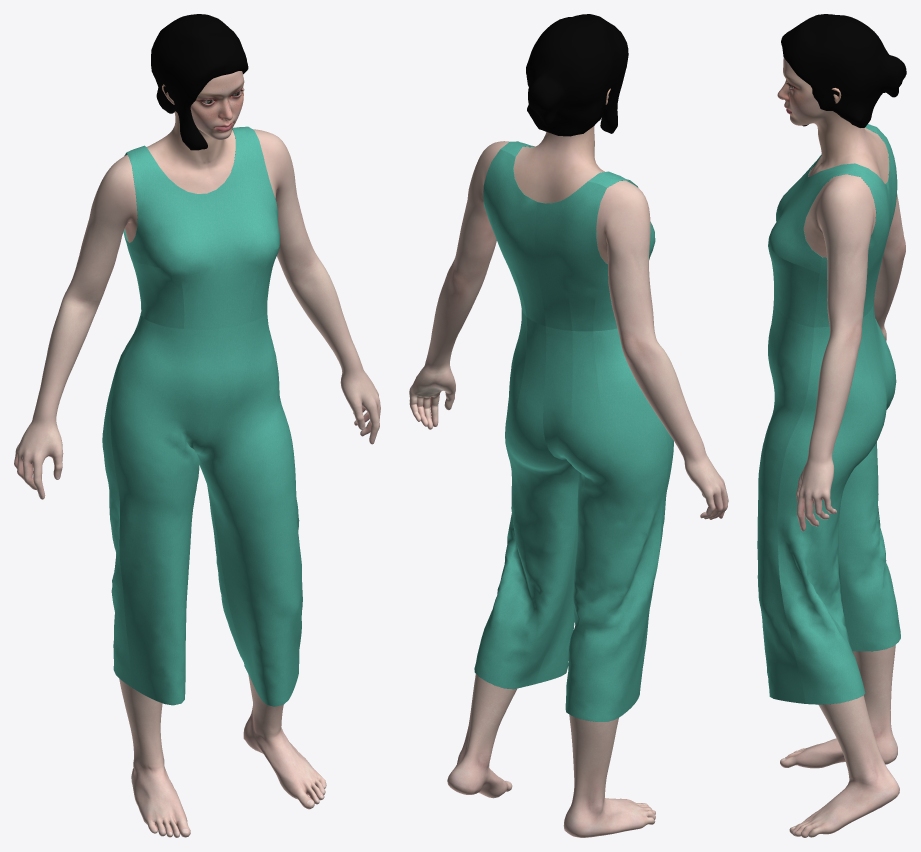
File: Dynamic_2.obj
The picture shows the model from 3 angles, left to right: view 1: azimuth 30°, elevation 25°; view 2: azimuth 150°, elevation 25°; view 3: azimuth 270°, elevation 25°; orthographic projection. The views are drawn at different scales.
Bounding box in the file's own units: 775 × 1773 × 310.
